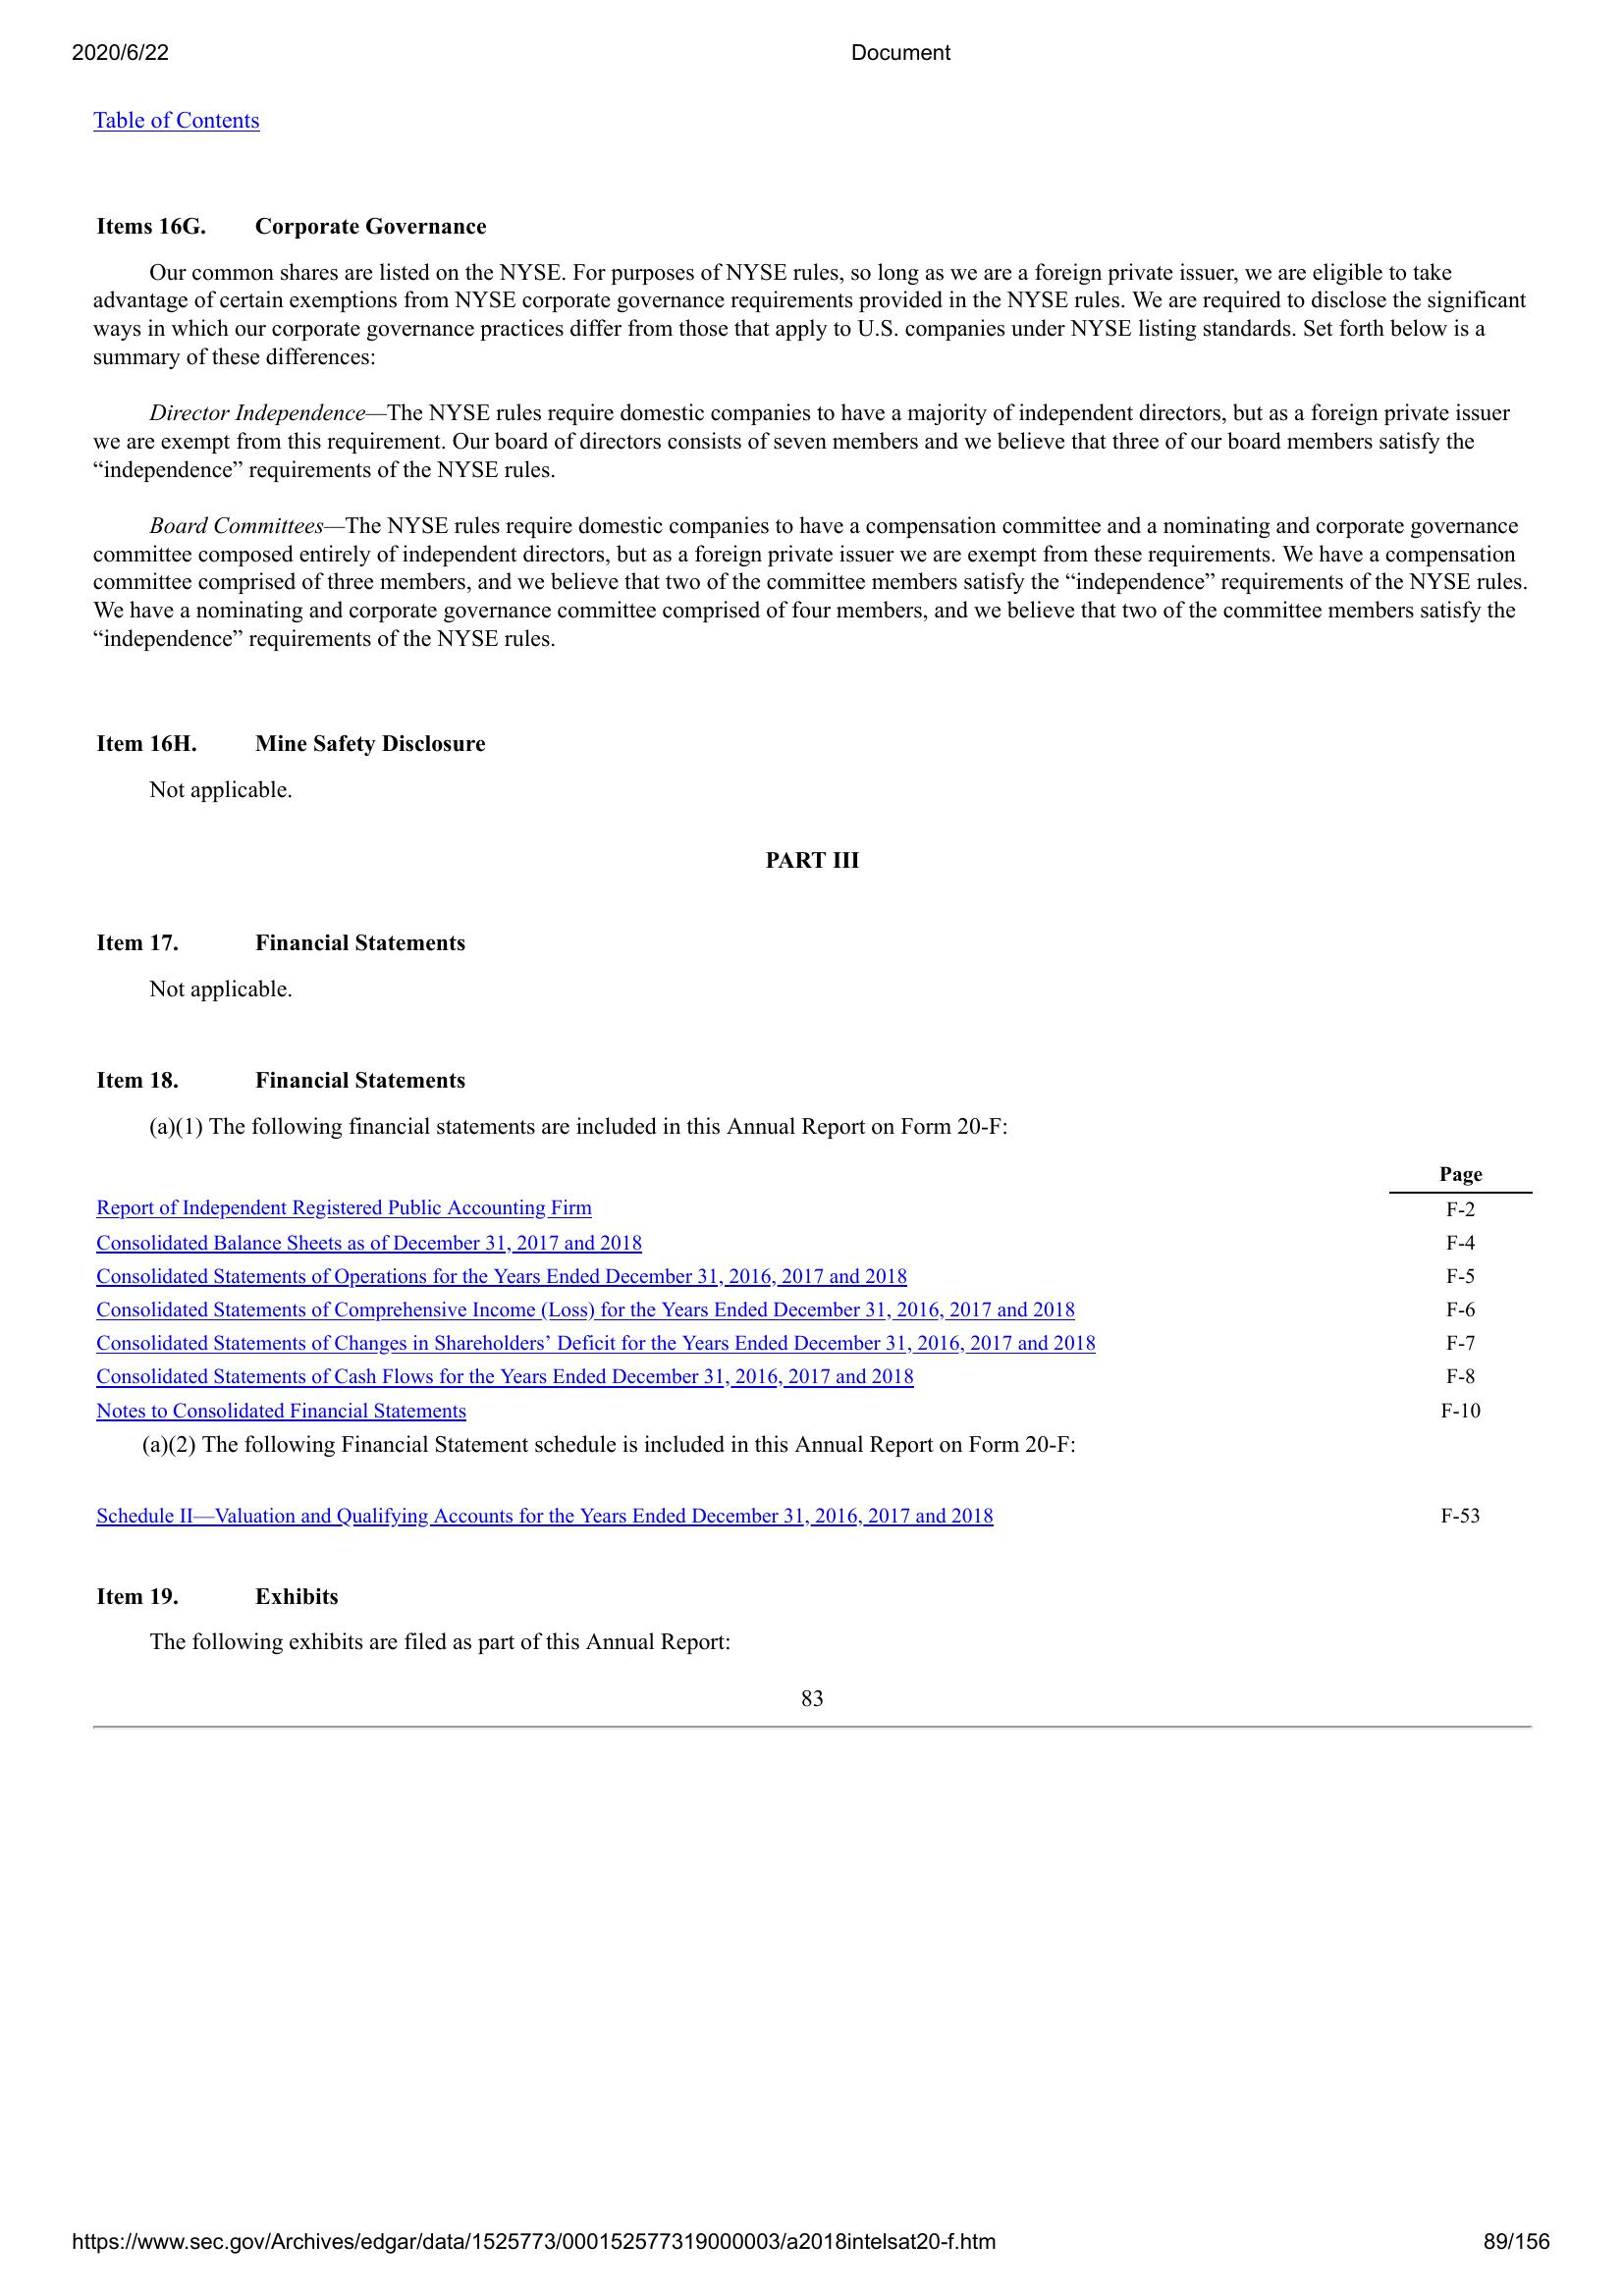table: (91, 1164, 1539, 1555)
